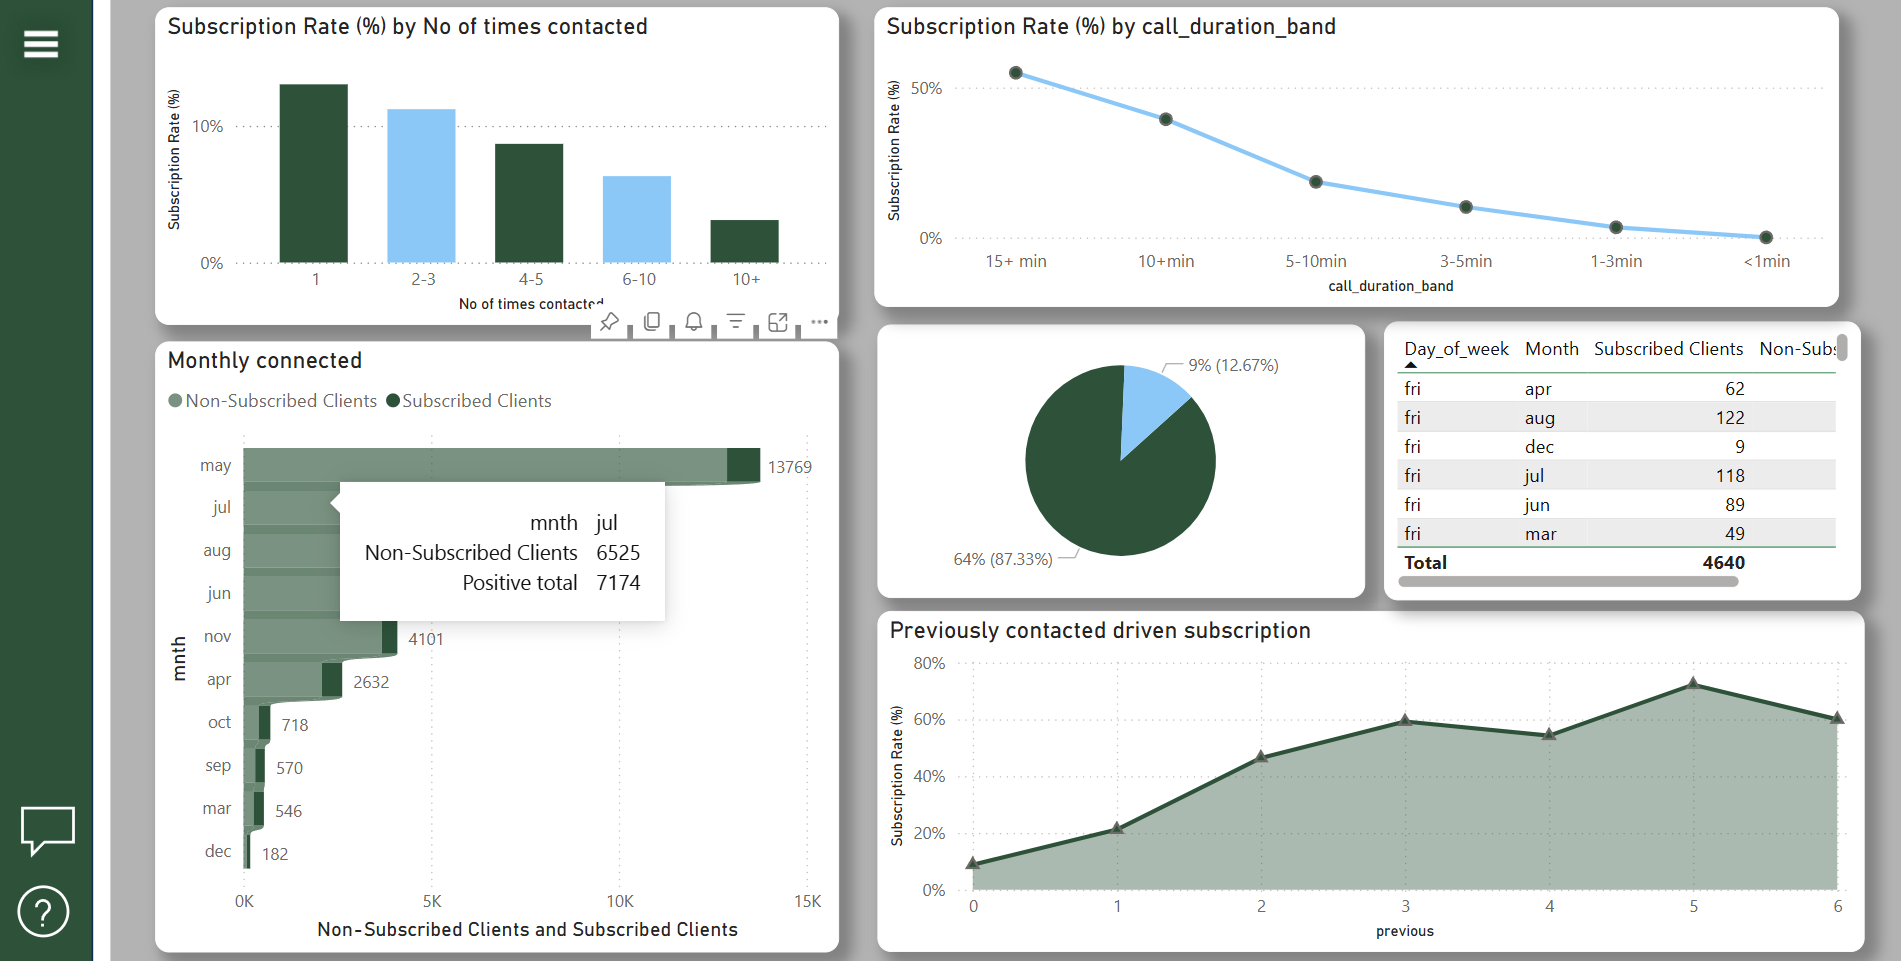

The page's visual inventory and layout, read from the dashboard file:
{"tool":"powerbi","page":{"name":"Campaign_over_view","canvas":[1370,700],"ordinal":1},"visuals":[{"type":"shape","title":"side bar","box":[0,0,70.7,719.1],"z":0,"group":"g1"},{"type":"clusteredColumnChart","fields":{"Y":["subscriptions.Subscription Rate (%)"],"Category":["bank_marketing_campaign.repeated_contacts"]},"box":[115.2,6.5,493.5,229.1],"z":0},{"type":"actionButton","title":"Menu button","box":[0,0,70,66.9],"z":1000,"group":"g1"},{"type":"pieChart","title":"Clients contacted in the previous campaign ","fields":{"Y":["subscriptions.Subscription Rate (%)"],"Category":["bank_marketing_campaign.contacted_before"]},"box":[636.2,235.6,352.1,197.7],"z":1000},{"type":"shape","title":"sb2","box":[71.3,0,12.1,699.7],"z":2000,"group":"g1"},{"type":"areaChart","title":"Previously contacted  driven subscription","fields":{"Y":["subscriptions.Subscription Rate (%)"],"Category":["bank_marketing_campaign.previous"]},"box":[636.2,442.5,712.1,246.1],"z":2000},{"type":"tableEx","fields":{"Values":["bank_marketing_campaign.mnth","bank_marketing_campaign.day_of_week","subscriptions.Subscribed Clients","subscriptions.Non-Subscribed Clients"]},"box":[1002.7,233,344.3,201.6],"z":3000},{"type":"actionButton","title":"Ques & Ans","box":[13.3,575.9,50.1,52.6],"z":3000,"group":"g1"},{"type":"barChart","title":"Monthly connected ","fields":{"Category":["bank_marketing_campaign.mnth"],"Y":["subscriptions.Non-Subscribed Clients","subscriptions.Subscribed Clients"]},"box":[115.2,247.4,493.5,441.1],"z":4000},{"type":"actionButton","title":"Help","box":[10.3,628.5,50.1,59.9],"z":4000,"group":"g1"},{"type":"lineChart","fields":{"Y":["subscriptions.Subscription Rate (%)"],"Category":["bank_marketing_campaign.call_duration_band"]},"box":[634.9,6.5,696.4,216],"z":5000},{"type":"group","id":"g1","title":"Menu bar","box":[0,0,83.5,719.1],"z":7000}]}

Visuals, with their boxes in screenshot pixels (x1, y1, x2, y2):
"side bar" shape: (0, 0, 84, 960)
clusteredColumnChart - subscriptions.Subscription Rate (%) x bank_marketing_campaign.repeated_contacts: (147, 0, 839, 316)
"Menu button" actionButton: (0, 0, 83, 79)
"Clients contacted in the previous campaign " pieChart: (878, 316, 1371, 593)
"sb2" shape: (85, 0, 102, 960)
"Previously contacted  driven subscription" areaChart: (878, 606, 1876, 951)
tableEx - bank_marketing_campaign.mnth x bank_marketing_campaign.day_of_week: (1392, 312, 1875, 595)
"Ques & Ans" actionButton: (4, 793, 74, 867)
"Monthly connected " barChart: (147, 332, 839, 951)
"Help" actionButton: (0, 867, 70, 951)
lineChart - subscriptions.Subscription Rate (%) x bank_marketing_campaign.call_duration_band: (876, 0, 1853, 297)
"Menu bar" group: (0, 0, 102, 960)
